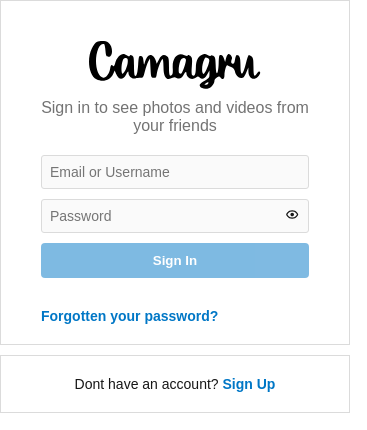
SigninForm › submit button is active when fields are fielled
Type "user" into the field with test id "login-signin" at point(175, 172), box [41, 155, 309, 189]
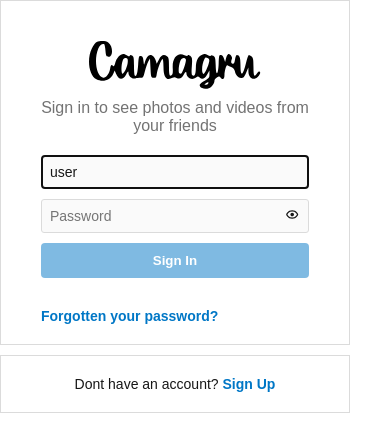
Type "StrongPass!1234" into the password field with test id "password-signin" at point(175, 216), box [41, 199, 309, 233]
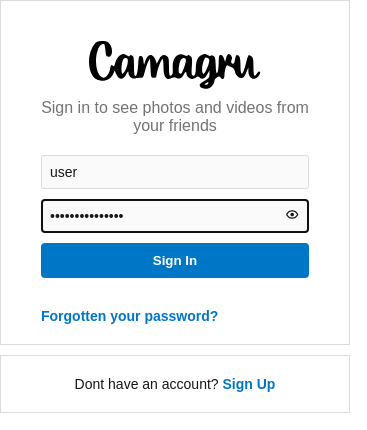
Expected: the button with test id "signin-button" is enabled, [41, 243, 309, 278]
